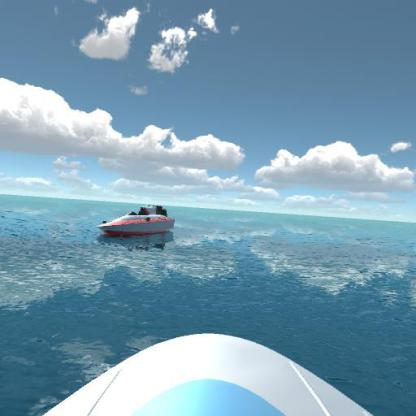usv3: (96, 195, 184, 243)
